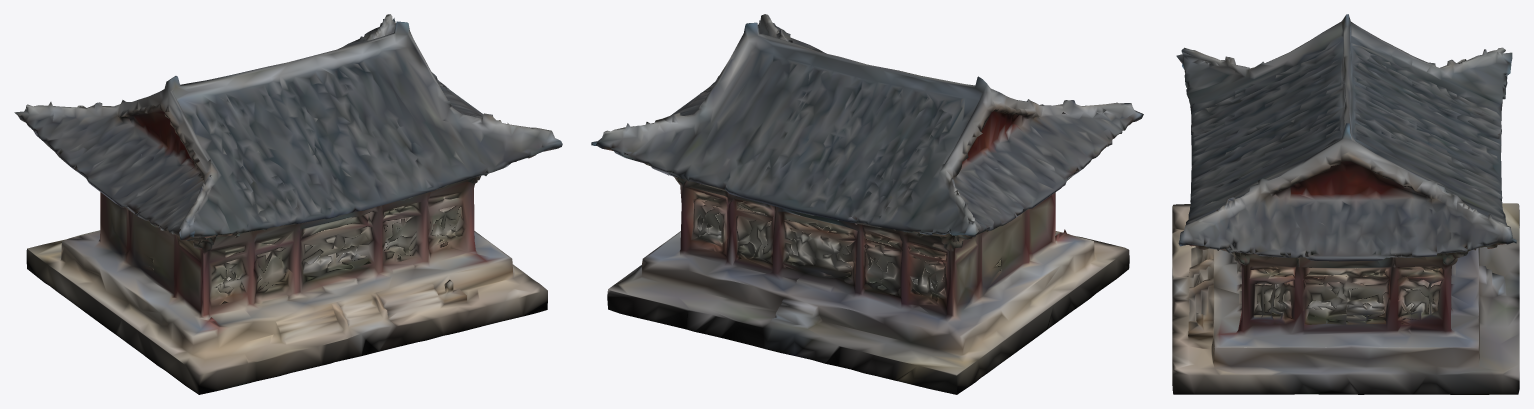
The model's file is sajeongjeon-lod.glb.
The picture shows the model from 3 angles, left to right: view 1: azimuth 30°, elevation 25°; view 2: azimuth 150°, elevation 25°; view 3: azimuth 270°, elevation 25°; orthographic projection.
Bounding box in the file's own units: 1.03 × 0.6187 × 0.8077.
